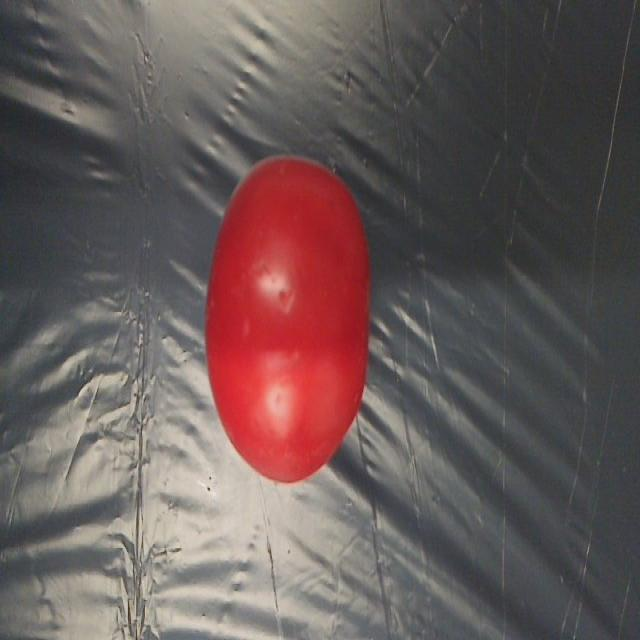kirmizi: (206, 151, 383, 497)
